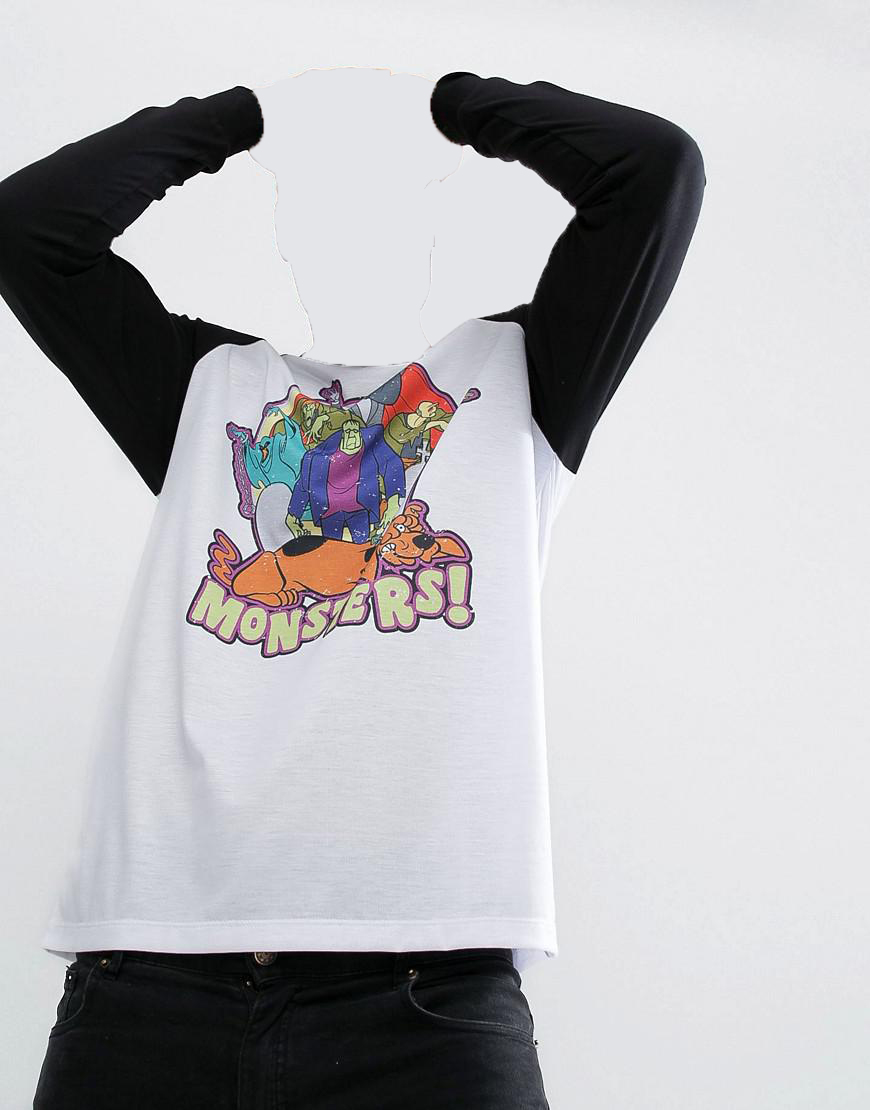teeshirt: (1, 66, 713, 1001)
